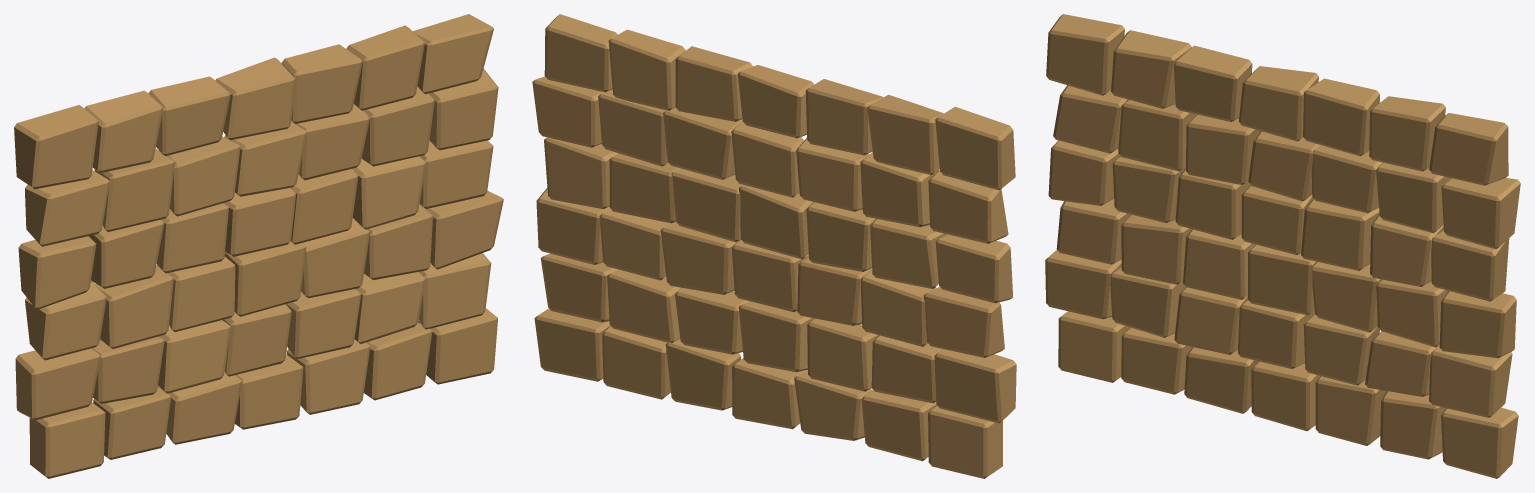
Rendered from BrickWallEgypt2.fbx.
3 renders of one model, left to right at view 1: azimuth 30°, elevation 25°; view 2: azimuth 150°, elevation 25°; view 3: azimuth 330°, elevation 25°, orthographic.
Parts seen in each view (by area): view 1: Outsidewall2; view 2: Outsidewall2; view 3: Outsidewall2.
Part boxes in pixels (x1,y1,x2,y2): Outsidewall2: [14, 14, 503, 478]; Outsidewall2: [532, 14, 1016, 478]; Outsidewall2: [1045, 14, 1520, 478].
Size of the model in its own units: 760 by 545 by 59.01.
